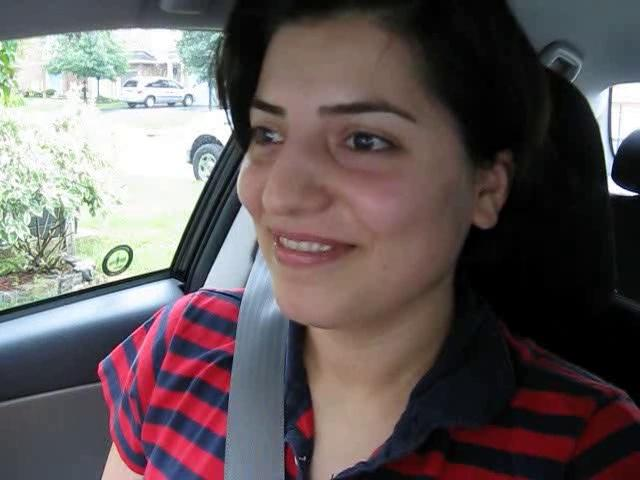no_yawn: (257, 210, 376, 281)
open_eyeL: (239, 111, 302, 158)
open_eyeR: (322, 114, 418, 172)
